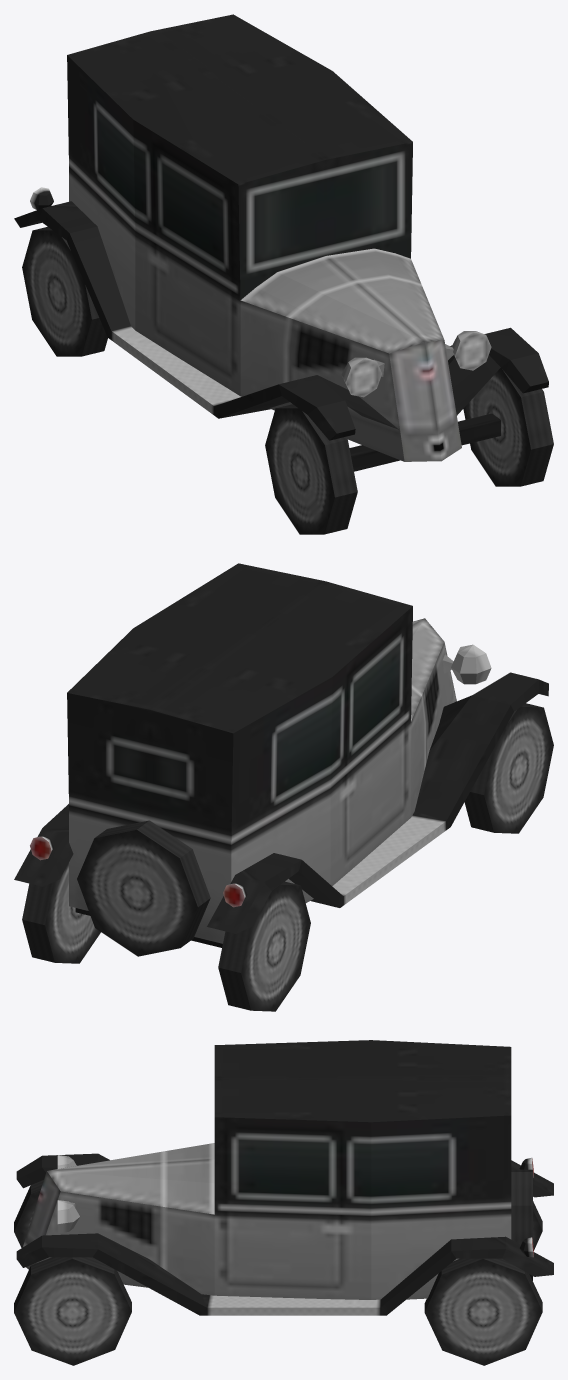
File: car7_grey.glb
3 renders of one model, top to bottom at view 1: azimuth 30°, elevation 25°; view 2: azimuth 150°, elevation 25°; view 3: azimuth 270°, elevation 25°, orthographic. The views are drawn at different scales.
Parts seen in each view (by area): view 1: Car7; view 2: Car7; view 3: Car7.
Part boxes in pixels (x1,y1,x2,y2): Car7: (14,14,553,534); Car7: (14,563,553,1011); Car7: (14,1040,553,1365).
Bounding box in the file's own units: 2.43 × 2.86 × 5.78.
Materials: 1 (1 with a texture image).
